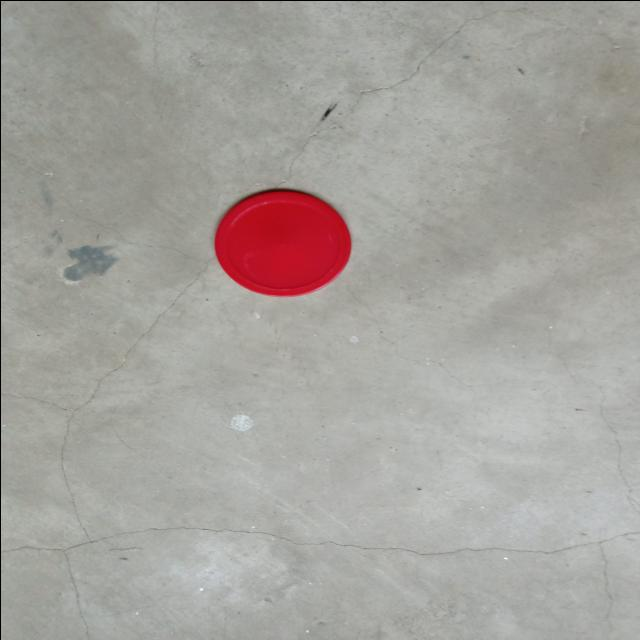chip: (211, 188, 353, 296)
